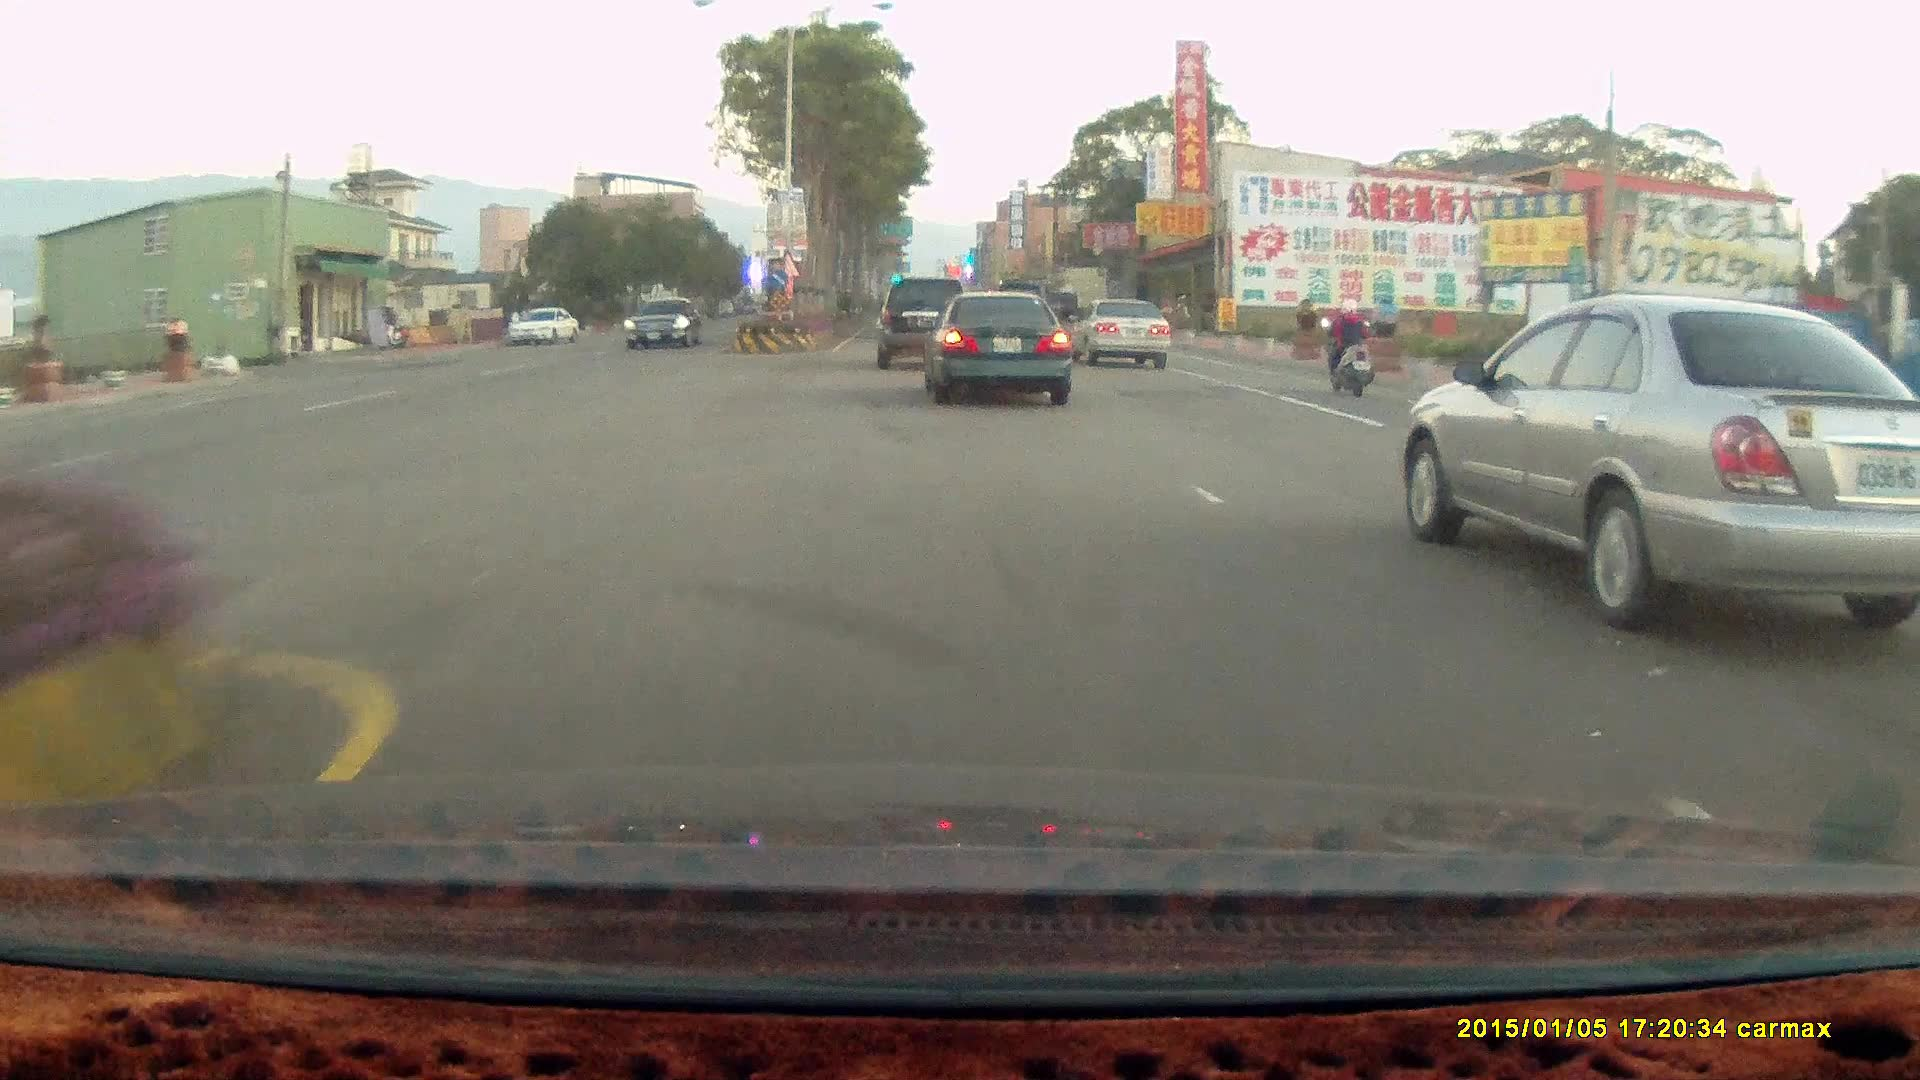rider: (1312, 290, 1388, 406), (1319, 296, 1374, 396)
vehicle: (1400, 295, 1920, 636), (918, 288, 1072, 403), (926, 297, 1074, 406), (880, 274, 976, 374), (877, 276, 971, 368), (1069, 296, 1172, 368), (1072, 301, 1174, 369), (625, 297, 705, 352), (624, 295, 704, 348), (509, 306, 582, 347), (508, 305, 580, 343)
